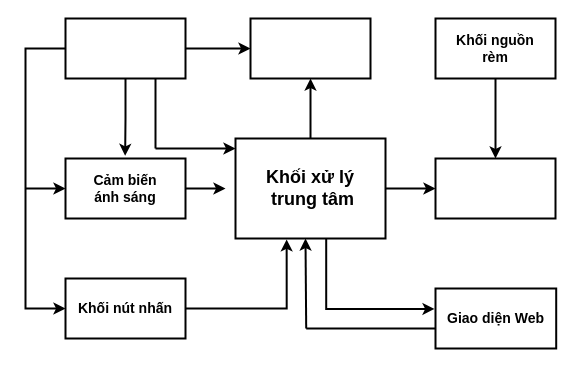
Image size: 574x366. Some labels were removed from this diagram. Here are the shapes that lost their labels. From the top down, the box of each, then its label:
(64, 17, 186, 79): Khối nguồn
(249, 17, 371, 79): Đèn
(434, 157, 556, 219): Rèm
